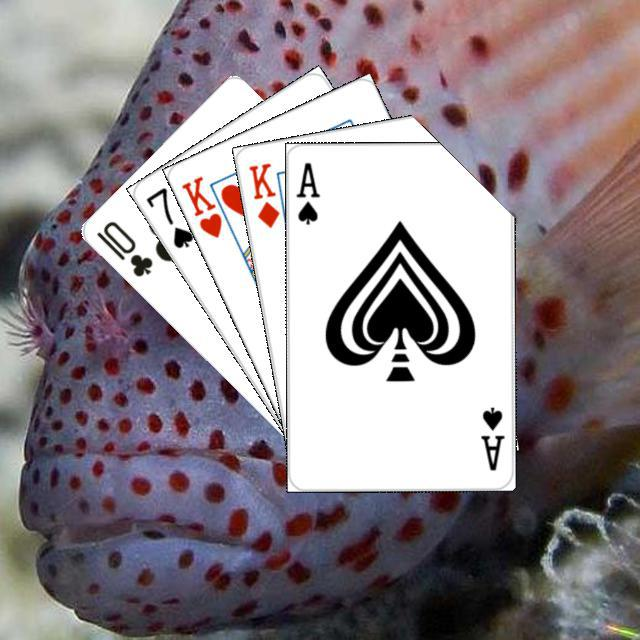10c: (91, 216, 155, 279)
7s: (141, 182, 196, 251)
As: (291, 157, 322, 226), (476, 401, 506, 472)
Kd: (244, 157, 281, 230)
Kh: (176, 171, 238, 240)
